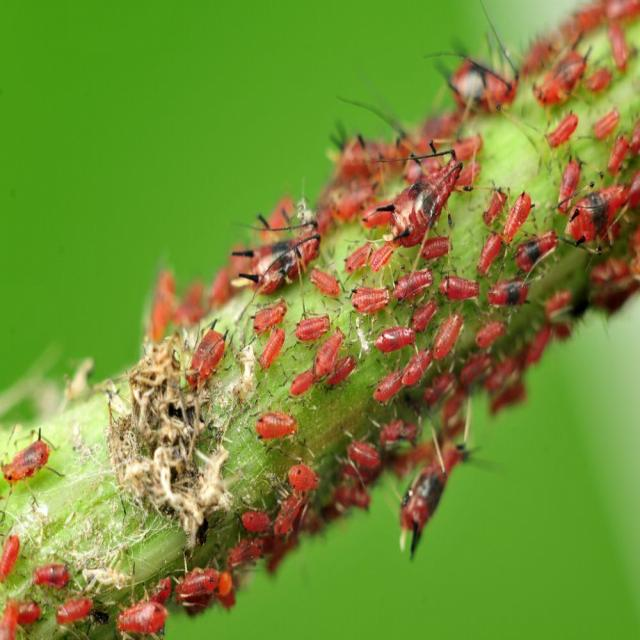Aphid-Grouped-: (240, 137, 503, 475)
Aphid-Grown-: (372, 151, 473, 249), (437, 34, 527, 127), (230, 218, 336, 290), (179, 319, 237, 385), (111, 590, 174, 638), (426, 303, 469, 368), (500, 182, 541, 246), (338, 425, 385, 479), (437, 266, 485, 316), (344, 276, 396, 320), (541, 103, 580, 159), (391, 268, 439, 312), (255, 405, 299, 452), (476, 227, 514, 279), (172, 566, 223, 602), (366, 321, 417, 356), (246, 298, 294, 334), (293, 307, 338, 343), (285, 461, 325, 496), (258, 334, 290, 374), (420, 231, 457, 265)
